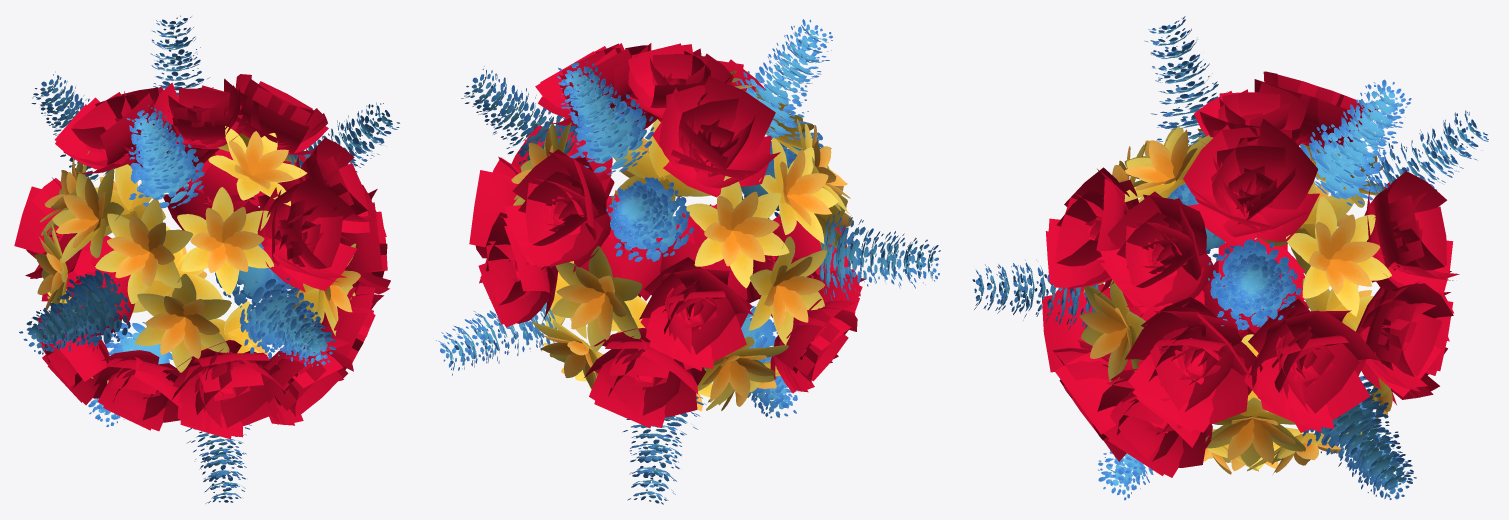
File: bouquet1.fbx
3 renders of one model, left to right at view 1: azimuth 30°, elevation 25°; view 2: azimuth 150°, elevation 25°; view 3: azimuth 270°, elevation 25°, orthographic. The views are drawn at different scales.
Parts seen in each view (by area): view 1: flower_rose2.898, lys_base.002, lilac_base.307; view 2: flower_rose2.898, lys_base.002, lilac_base.307; view 3: flower_rose2.898, lilac_base.307, lys_base.002.
Boxes of the visible parts, x1=… form: flower_rose2.898: x1=14, y1=74, x2=390, y2=439; lys_base.002: x1=34, y1=126, x2=360, y2=383; lilac_base.307: x1=19, y1=15, x2=399, y2=503; flower_rose2.898: x1=469, y1=43, x2=866, y2=427; lys_base.002: x1=511, y1=70, x2=853, y2=411; lilac_base.307: x1=436, y1=19, x2=940, y2=504; flower_rose2.898: x1=1041, y1=71, x2=1459, y2=477; lilac_base.307: x1=972, y1=16, x2=1488, y2=500; lys_base.002: x1=1079, y1=125, x2=1392, y2=474.
Bounding box in the file's own units: 11.45 × 10.75 × 11.14.
